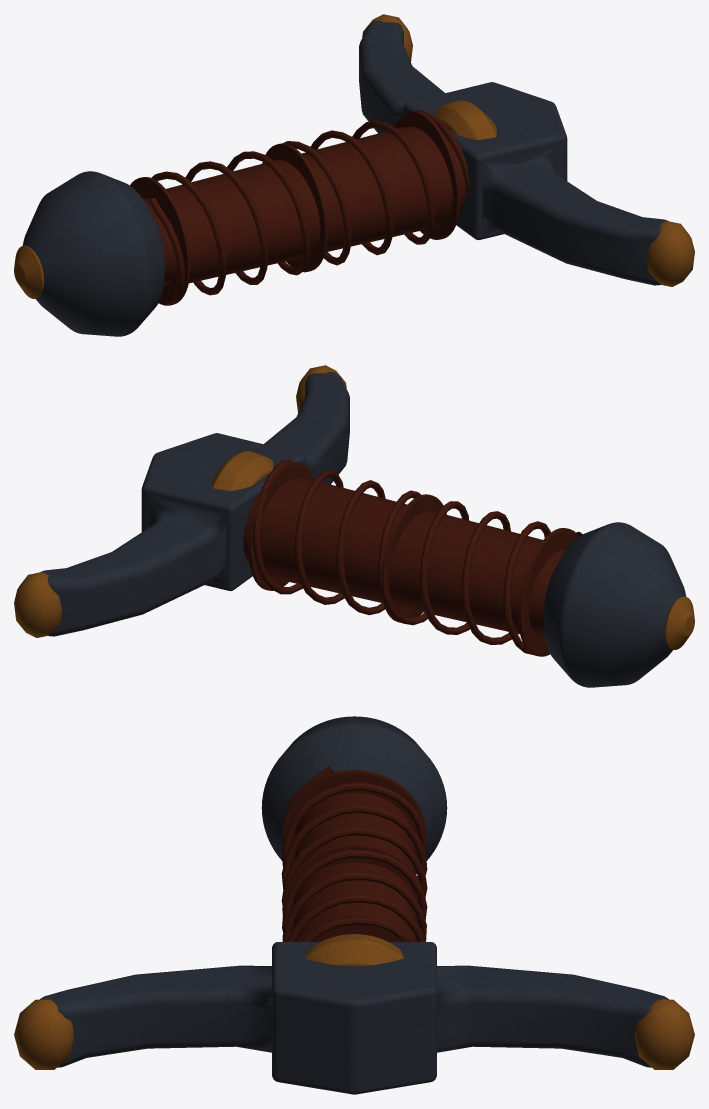
Rendered from fittings-duelling-longsword.glb.
3 renders of one model, top to bottom at view 1: azimuth 30°, elevation 25°; view 2: azimuth 150°, elevation 25°; view 3: azimuth 270°, elevation 25°, orthographic. The views are drawn at different scales.
Parts seen in each view (by area): view 1: DuellingLongsword_GuardAndShoulder, DuellingLongsword_GripCore, DuellingLongsword_Pommel, DuellingLongsword_Wrap, DuellingLongsword_QuillonR, DuellingLongsword_Riser2, DuellingLongsword_Riser1, DuellingLongsword_Riser0, DuellingLongsword_Collar, DuellingLongsword_PommelCap; view 2: DuellingLongsword_GuardAndShoulder, DuellingLongsword_GripCore, DuellingLongsword_Pommel, DuellingLongsword_Wrap, DuellingLongsword_QuillonL, DuellingLongsword_Riser2, DuellingLongsword_Riser1, DuellingLongsword_Collar, DuellingLongsword_Riser0, DuellingLongsword_PommelCap; view 3: DuellingLongsword_GuardAndShoulder, DuellingLongsword_Wrap, DuellingLongsword_Pommel, DuellingLongsword_GripCore, DuellingLongsword_QuillonL, DuellingLongsword_QuillonR, DuellingLongsword_Collar, DuellingLongsword_Riser2, DuellingLongsword_Riser1, DuellingLongsword_Riser0.
Boxes of the visible parts, x1,y1,x2,y2 form: DuellingLongsword_GuardAndShoulder: (359,21,668,285); DuellingLongsword_GripCore: (143,127,465,285); DuellingLongsword_Pommel: (22,171,164,336); DuellingLongsword_Wrap: (148,110,470,305); DuellingLongsword_QuillonR: (647,221,694,286); DuellingLongsword_Riser2: (130,177,190,305); DuellingLongsword_Riser1: (262,143,327,272); DuellingLongsword_Riser0: (400,111,460,239); DuellingLongsword_Collar: (435,100,496,139); DuellingLongsword_PommelCap: (14,245,44,298); DuellingLongsword_GuardAndShoulder: (40,372,349,636); DuellingLongsword_GripCore: (243,478,565,636); DuellingLongsword_Pommel: (544,522,686,687); DuellingLongsword_Wrap: (252,460,582,654); DuellingLongsword_QuillonL: (14,572,61,637); DuellingLongsword_Riser2: (518,528,575,656); DuellingLongsword_Riser1: (381,494,446,622); DuellingLongsword_Collar: (212,451,273,490); DuellingLongsword_Riser0: (248,462,313,590); DuellingLongsword_PommelCap: (664,596,694,649); DuellingLongsword_GuardAndShoulder: (40,942,668,1094); DuellingLongsword_Wrap: (281,766,427,941); DuellingLongsword_Pommel: (261,716,447,860); DuellingLongsword_GripCore: (291,792,418,941); DuellingLongsword_QuillonL: (634,999,694,1069); DuellingLongsword_QuillonR: (14,999,74,1069); DuellingLongsword_Collar: (305,934,403,965); DuellingLongsword_Riser2: (282,769,426,862); DuellingLongsword_Riser1: (282,843,426,919); DuellingLongsword_Riser0: (296,914,412,941).
Bounding box in the file's own units: 1.05 × 0.2875 × 1.06.
Materials: 3 (3 with a texture image).
